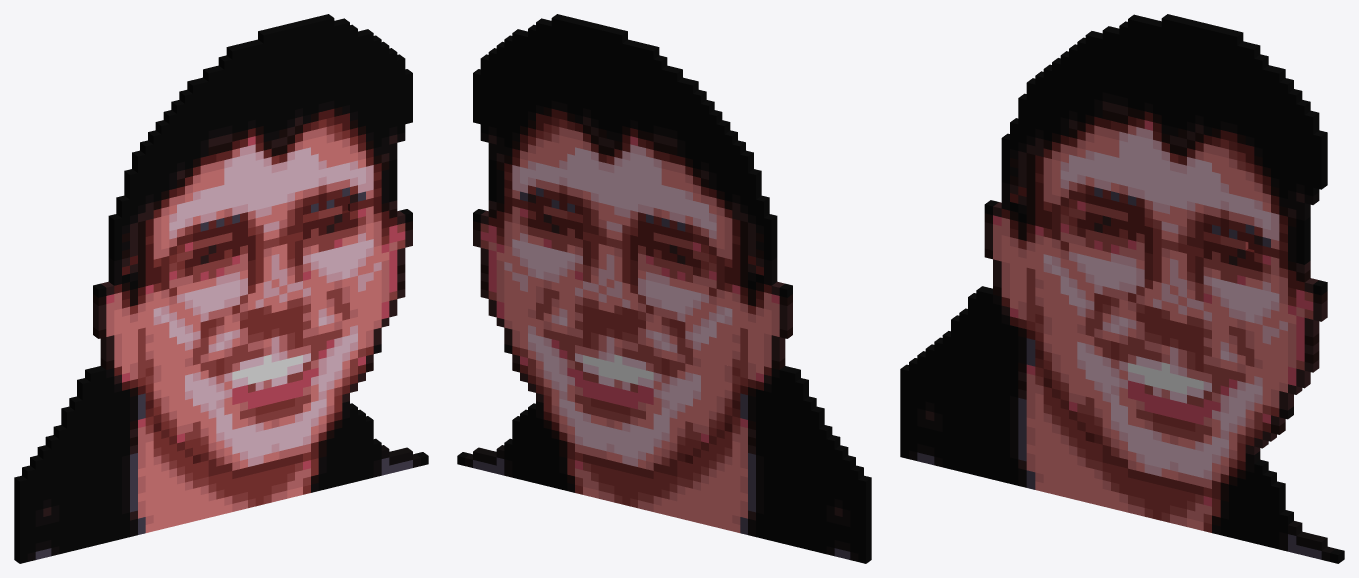
Rendered from pixelMeglb.glb.
The picture shows the model from 3 angles, left to right: view 1: azimuth 30°, elevation 25°; view 2: azimuth 150°, elevation 25°; view 3: azimuth 330°, elevation 25°; orthographic projection. The views are drawn at different scales.
Parts seen in each view (by area): view 1: generated(Clone); view 2: generated(Clone); view 3: generated(Clone).
Part boxes in pixels (x1,y1,x2,y2): generated(Clone): (14, 14, 428, 563); generated(Clone): (457, 14, 871, 563); generated(Clone): (900, 14, 1344, 563).
Bounding box in the file's own units: 52 × 57 × 1.25.
